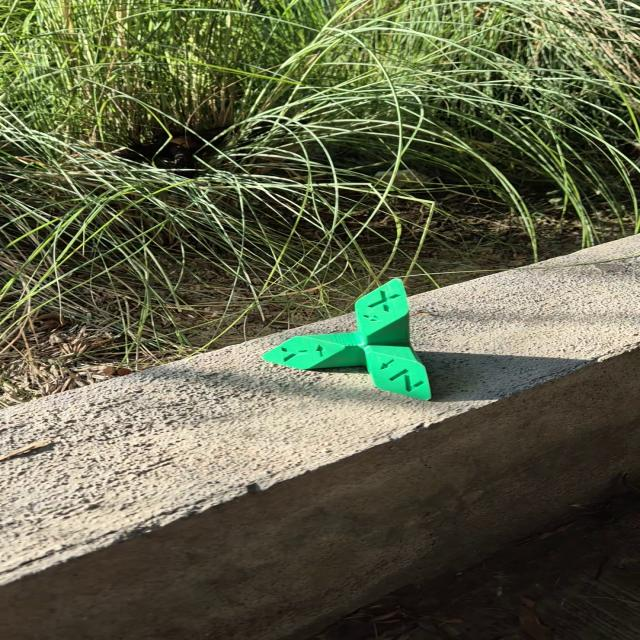objects: (259, 277, 433, 403)
